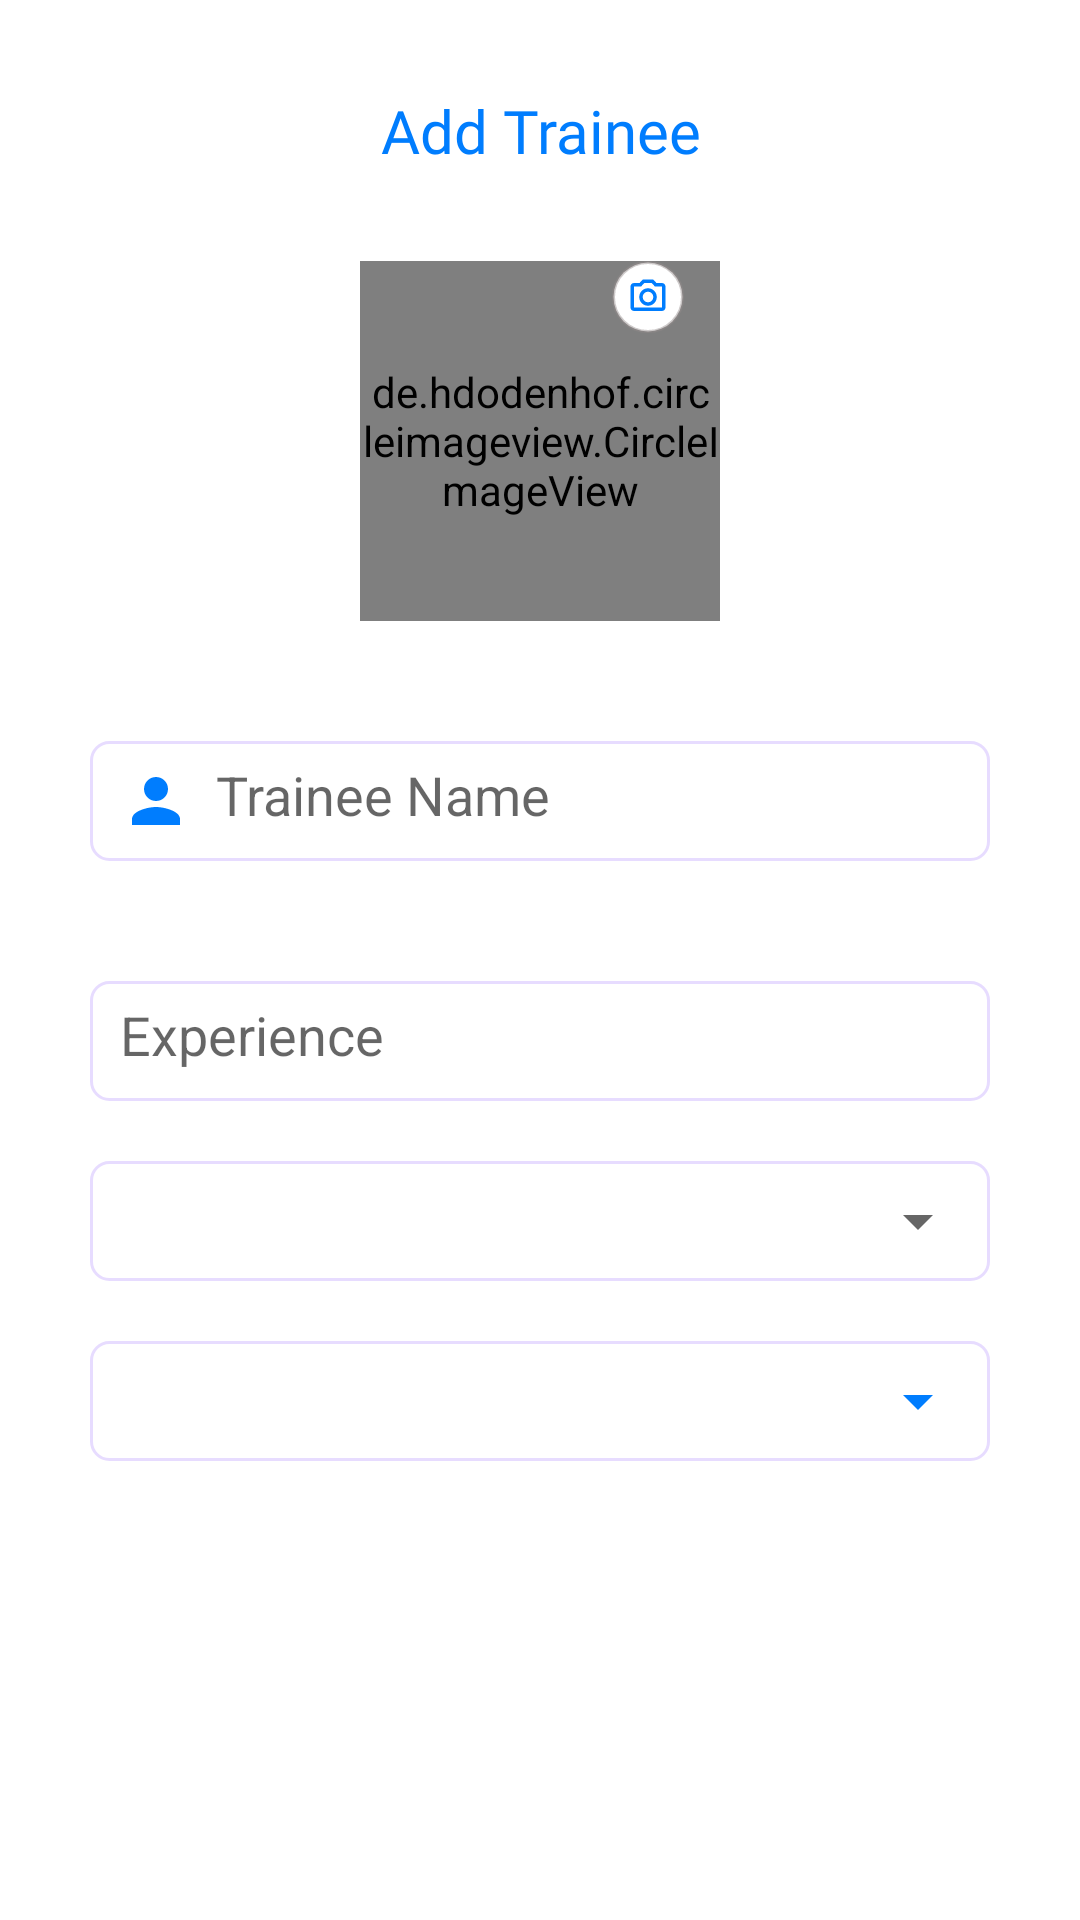

Named icons in this screenshot (1080x1920) and their bounding boxes, (x1, y1, x2, y2):
camera: (613, 262, 683, 332)
